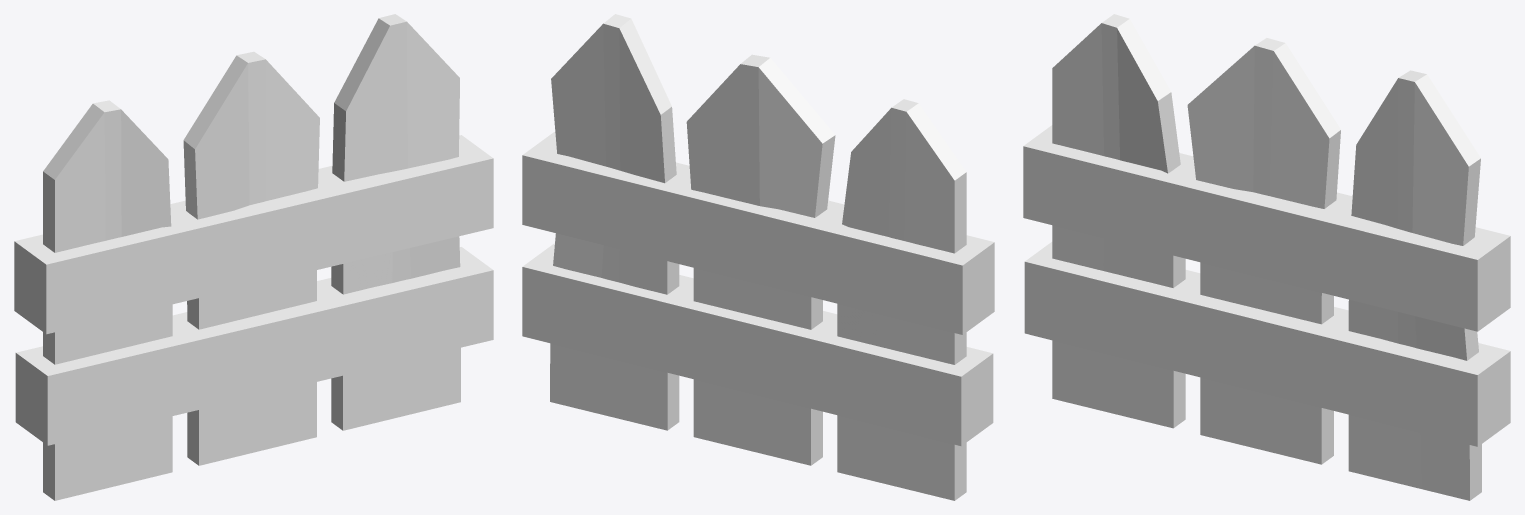
Rendered from hedge-type-003.obj.
The picture shows the model from 3 angles, left to right: view 1: azimuth 30°, elevation 25°; view 2: azimuth 150°, elevation 25°; view 3: azimuth 330°, elevation 25°; orthographic projection. The views are drawn at different scales.
Parts seen in each view (by area): view 1: hedge-type-001; view 2: hedge-type-001; view 3: hedge-type-001.
Part boxes in pixels (x1=…): hedge-type-001: x1=14, y1=14, x2=493, y2=500; hedge-type-001: x1=522, y1=14, x2=994, y2=500; hedge-type-001: x1=1023, y1=14, x2=1510, y2=500.
Size of the model in its own units: 0.8365 by 0.7079 by 0.1139.
